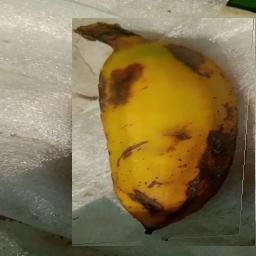Banana Semirotten: (73, 19, 256, 247)
